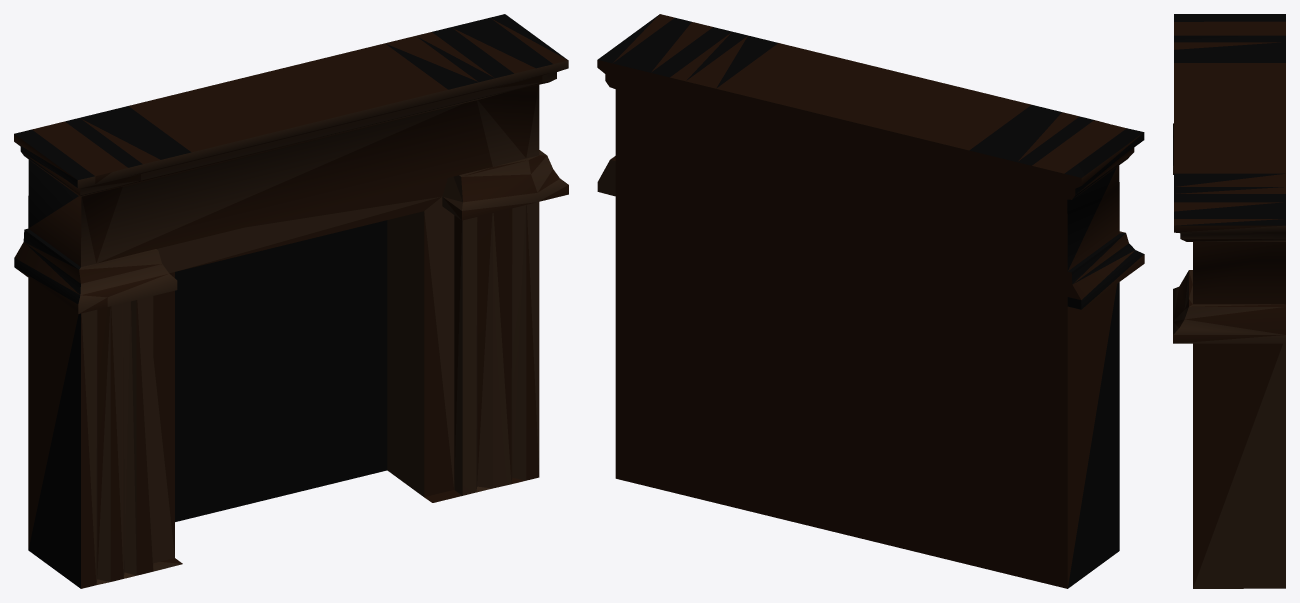
The model's file is chimenea.FBX.
3 renders of one model, left to right at view 1: azimuth 30°, elevation 25°; view 2: azimuth 150°, elevation 25°; view 3: azimuth 270°, elevation 25°, orthographic. The views are drawn at different scales.
Visible parts, largest first — view 1: Box001; view 2: Box001; view 3: Box001.
Part boxes in pixels (x1,y1,x2,y2): Box001: (14, 14, 568, 588); Box001: (597, 14, 1144, 588); Box001: (1173, 14, 1285, 588).
Size of the model in its own units: 162 by 132 by 36.42.
